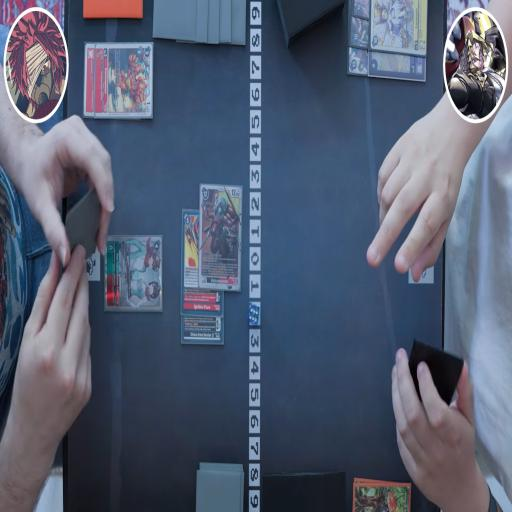card: (179, 200, 225, 318), (198, 183, 244, 291), (103, 237, 164, 313), (94, 42, 153, 120), (370, 0, 428, 59), (368, 49, 428, 81), (180, 314, 225, 345), (82, 42, 98, 122), (349, 16, 370, 50), (346, 48, 372, 75), (350, 0, 371, 21)
